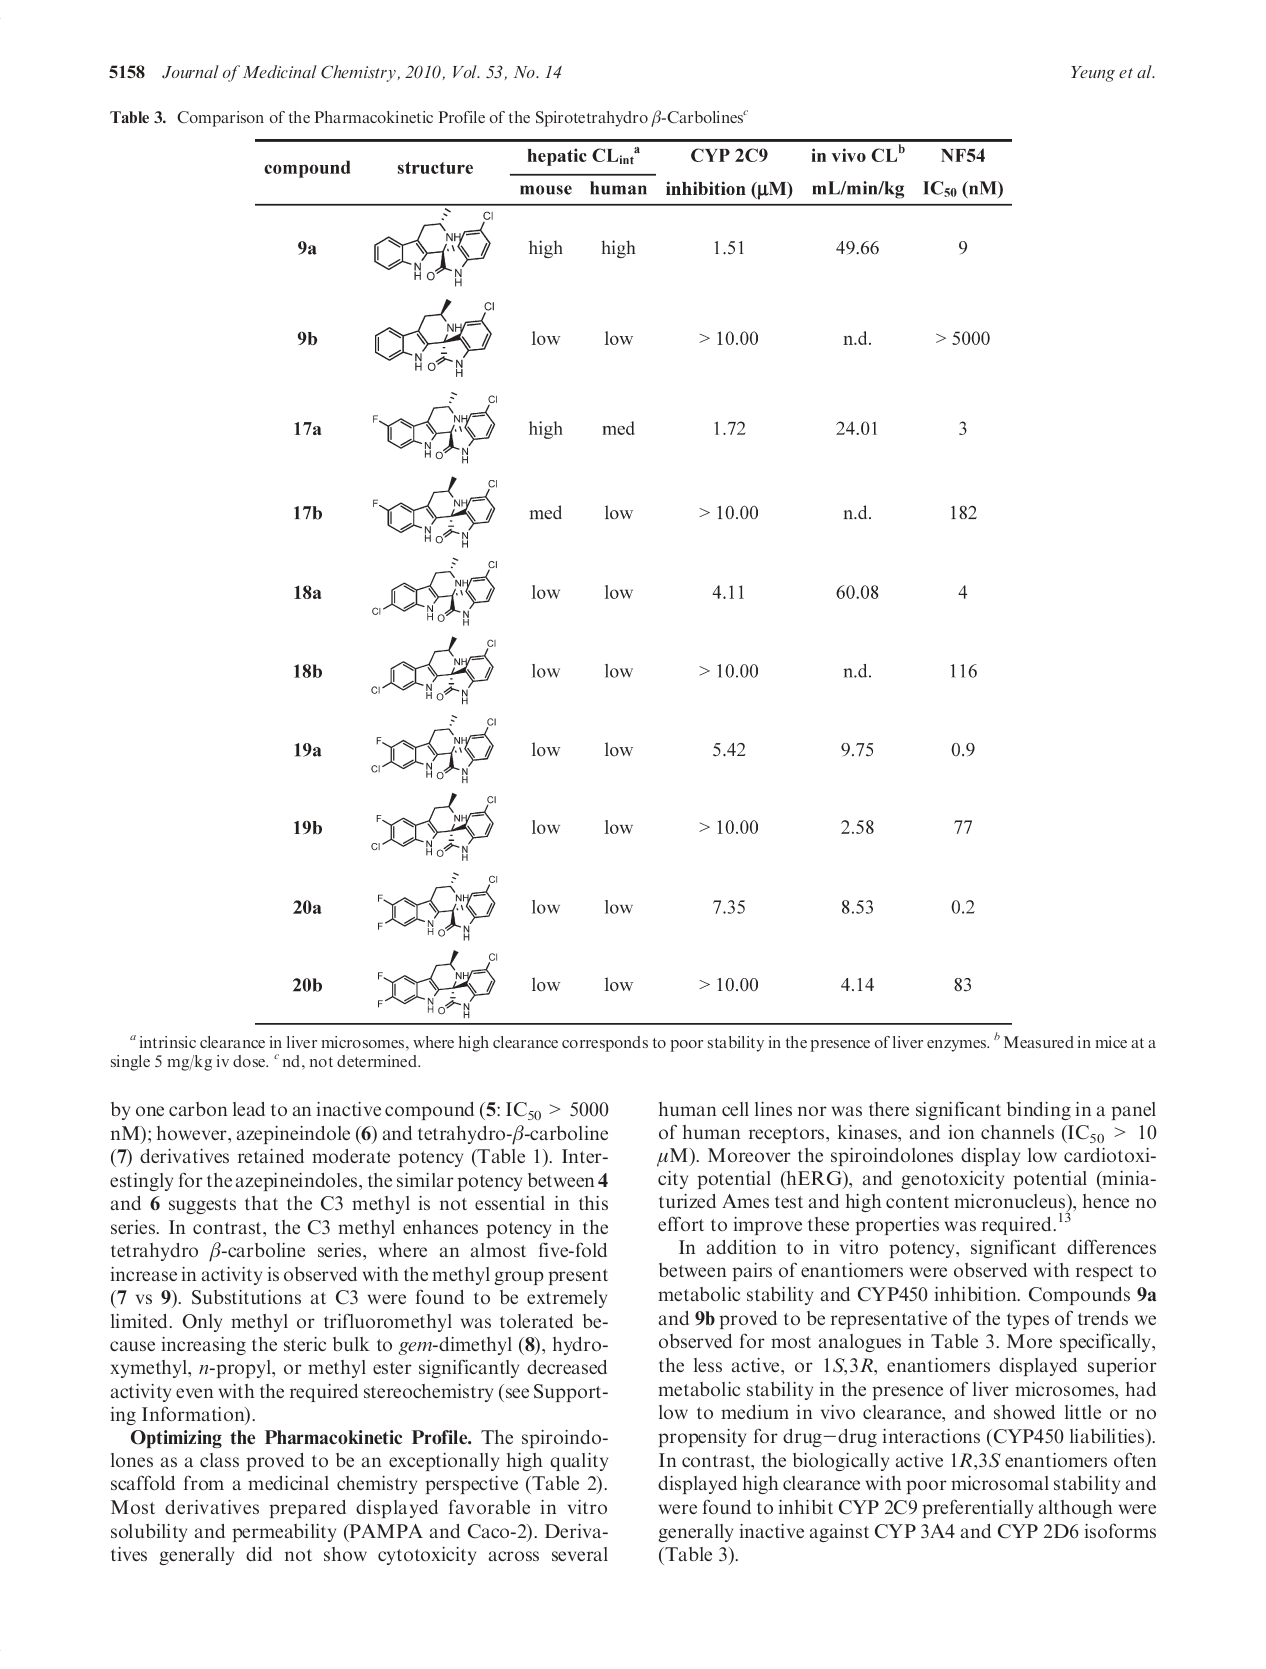exist_molecular: (372, 298, 497, 379), (372, 207, 495, 289), (371, 476, 499, 551), (372, 390, 499, 463), (370, 791, 497, 862), (376, 950, 501, 1021), (371, 714, 500, 783), (370, 636, 497, 705), (376, 870, 497, 942), (371, 559, 497, 626)
